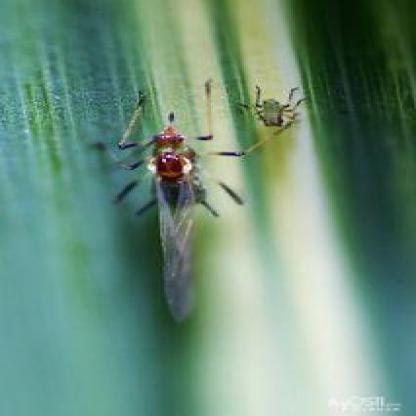aphid: (116, 87, 236, 334), (244, 72, 311, 138)
